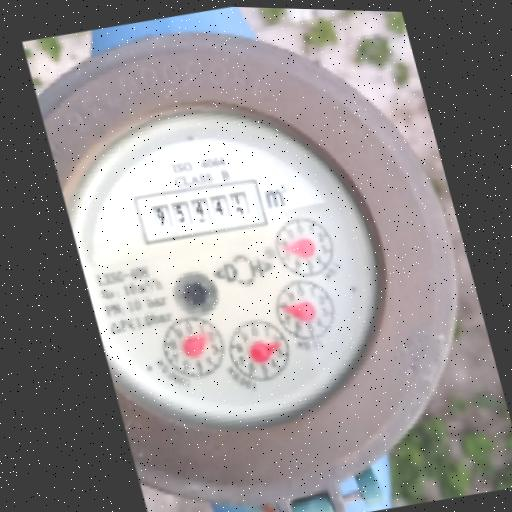1: (231, 192, 251, 216)
4: (192, 198, 213, 223), (212, 196, 231, 219)
5: (173, 202, 193, 226)
9: (152, 206, 173, 231)
border_water_meter_number: (131, 173, 270, 249)
